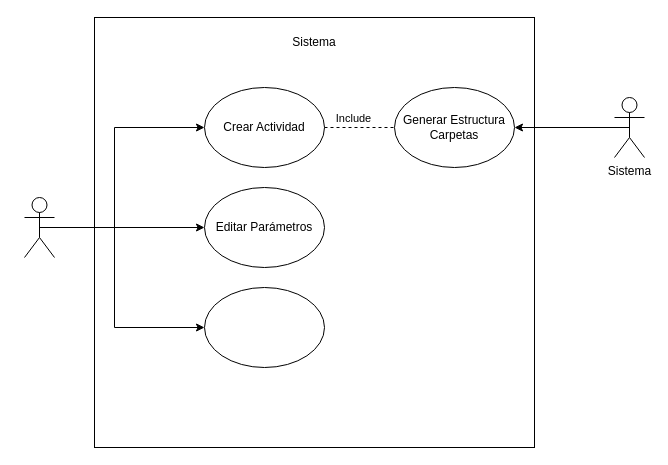
Image size: 668x465. Some labels were removed from this diagram. Here are the shapes that lost their labels. From the top down, the centre of each, then its label:
At point (39, 227): "Profesor".
At point (264, 327): "Ocultar/Mostrar Actividad".
